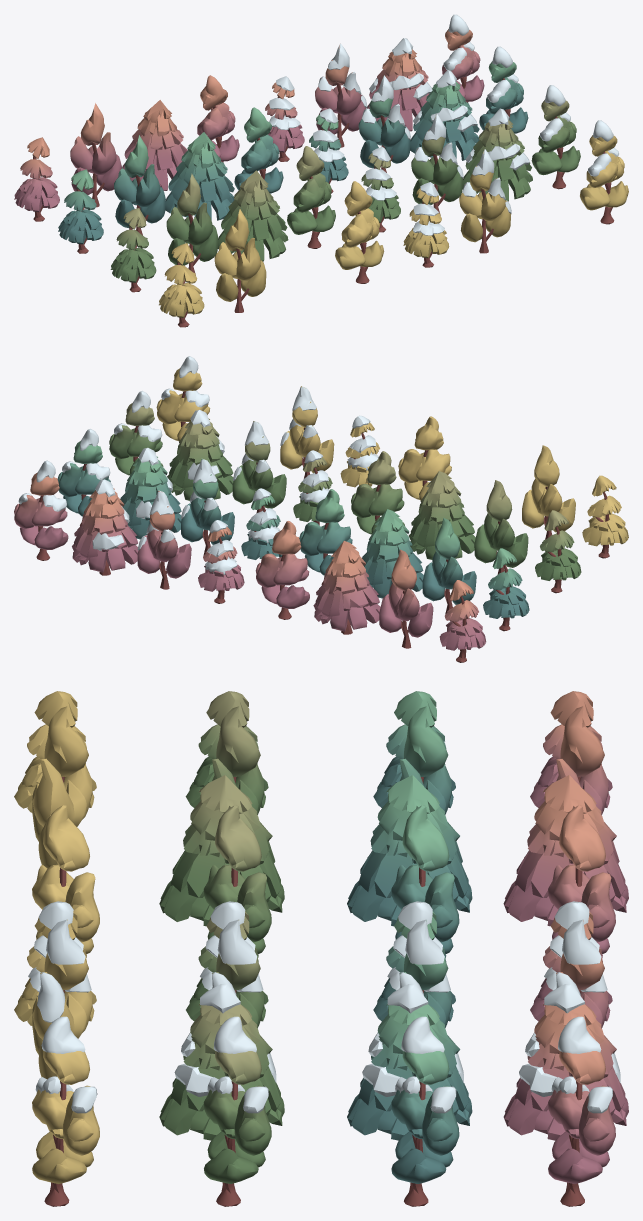
File: Asset_Trees_01.fbx
The picture shows the model from 3 angles, top to bottom: view 1: azimuth 30°, elevation 25°; view 2: azimuth 150°, elevation 25°; view 3: azimuth 270°, elevation 25°; orthographic projection. The views are drawn at different scales.
Visible parts, largest first — view 1: Tree_346, Tree_06, Tree_54, Tree_184, Tree_183, Tree_351, Tree_05, Tree_348, Tree_55, Tree_180, Tree_07, Tree_188 (+18 smaller); view 2: Tree_58, Tree_185, Tree_06, Tree_183, Tree_57, Tree_186, Tree_59, Tree_181, Tree_184, Tree_54, Tree_07, Tree_182 (+18 smaller); view 3: Tree_53, Tree_05, Tree_57, Tree_348, Tree_58, Tree_06, Tree_54, Tree_185, Tree_183, Tree_184, Tree_351, Tree_346 (+18 smaller).
Boxes of the visible parts, x1=… form: Tree_346: x1=459, y1=149, x2=511, y2=253; Tree_06: x1=462, y1=108, x2=532, y2=201; Tree_54: x1=410, y1=70, x2=479, y2=160; Tree_184: x1=165, y1=132, x2=234, y2=220; Tree_183: x1=217, y1=170, x2=288, y2=261; Tree_351: x1=214, y1=209, x2=266, y2=312; Tree_05: x1=531, y1=85, x2=580, y2=189; Tree_348: x1=580, y1=120, x2=628, y2=224; Tree_55: x1=358, y1=75, x2=411, y2=172; Tree_180: x1=114, y1=135, x2=165, y2=235; Tree_07: x1=411, y1=114, x2=463, y2=215; Tree_188: x1=287, y1=146, x2=335, y2=248; Tree_58: x1=72, y1=479, x2=138, y2=575; Tree_185: x1=313, y1=541, x2=380, y2=634; Tree_06: x1=167, y1=409, x2=233, y2=500; Tree_183: x1=408, y1=471, x2=475, y2=559; Tree_57: x1=14, y1=460, x2=68, y2=560; Tree_186: x1=255, y1=521, x2=309, y2=619; Tree_59: x1=137, y1=490, x2=191, y2=589; Tree_181: x1=379, y1=549, x2=433, y2=648; Tree_184: x1=362, y1=509, x2=423, y2=598; Tree_54: x1=120, y1=447, x2=181, y2=539; Tree_07: x1=232, y1=421, x2=286, y2=512; Tree_182: x1=474, y1=480, x2=528, y2=574; Tree_53: x1=391, y1=1016, x2=459, y2=1206; Tree_05: x1=203, y1=1016, x2=271, y2=1206; Tree_57: x1=548, y1=1016, x2=615, y2=1206; Tree_348: x1=32, y1=1016, x2=99, y2=1206; Tree_58: x1=503, y1=984, x2=628, y2=1140; Tree_06: x1=159, y1=984, x2=284, y2=1140; Tree_54: x1=347, y1=984, x2=472, y2=1140; Tree_185: x1=503, y1=775, x2=628, y2=926; Tree_183: x1=159, y1=775, x2=284, y2=926; Tree_184: x1=347, y1=775, x2=472, y2=926; Tree_351: x1=32, y1=706, x2=92, y2=868; Tree_346: x1=32, y1=919, x2=92, y2=1079.
Bounding box in the file's own units: 2003 × 416 × 1277.
